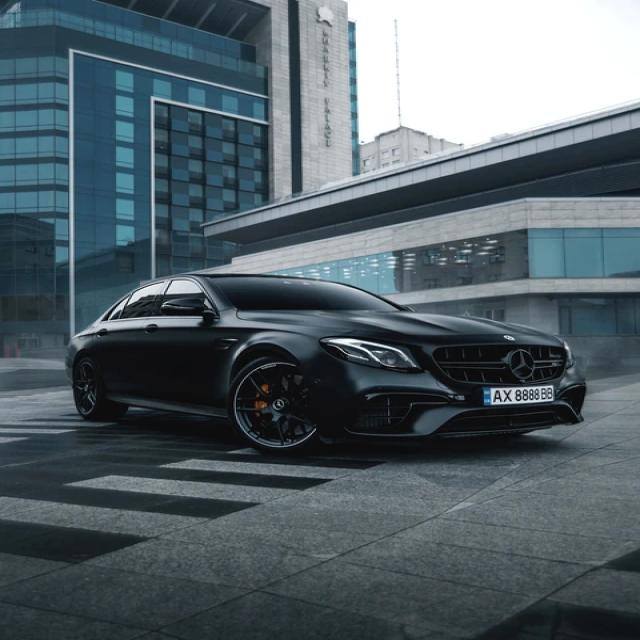mercedes: (502, 348, 542, 383)
